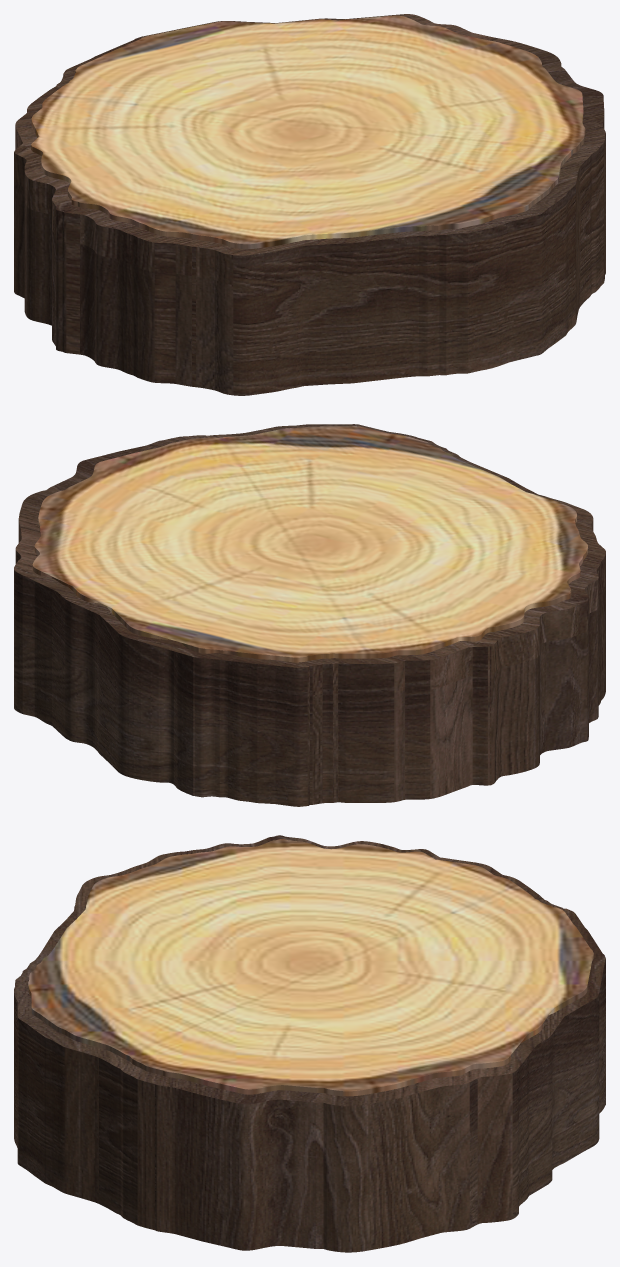
File: wood131.fbx
3 renders of one model, top to bottom at view 1: azimuth 30°, elevation 25°; view 2: azimuth 150°, elevation 25°; view 3: azimuth 270°, elevation 25°, orthographic. The views are drawn at different scales.
Parts seen in each view (by area): view 1: Шапка_1_2, Выдавливание_NURBS_1, Шапка_1, Выдавливание_NURBS; view 2: Шапка_1_2, Выдавливание_NURBS_1, Шапка_1, Выдавливание_NURBS; view 3: Шапка_1_2, Выдавливание_NURBS_1, Шапка_1, Выдавливание_NURBS.
Boxes of the visible parts, box(x1,y1,x2,y2) form: Шапка_1_2: box(31, 15, 585, 244); Выдавливание_NURBS_1: box(14, 66, 605, 395); Шапка_1: box(14, 14, 605, 255); Выдавливание_NURBS: box(31, 65, 585, 249); Шапка_1_2: box(32, 426, 587, 657); Выдавливание_NURBS_1: box(14, 520, 605, 806); Шапка_1: box(14, 424, 605, 667); Выдавливание_NURBS: box(32, 516, 587, 662); Шапка_1_2: box(28, 839, 593, 1091); Выдавливание_NURBS_1: box(14, 959, 605, 1252); Шапка_1: box(14, 835, 605, 1106); Выдавливание_NURBS: box(28, 954, 593, 1096).
Size of the model in its own units: 1460 by 380 by 1348.
Materials: 4 (4 with a texture image).
